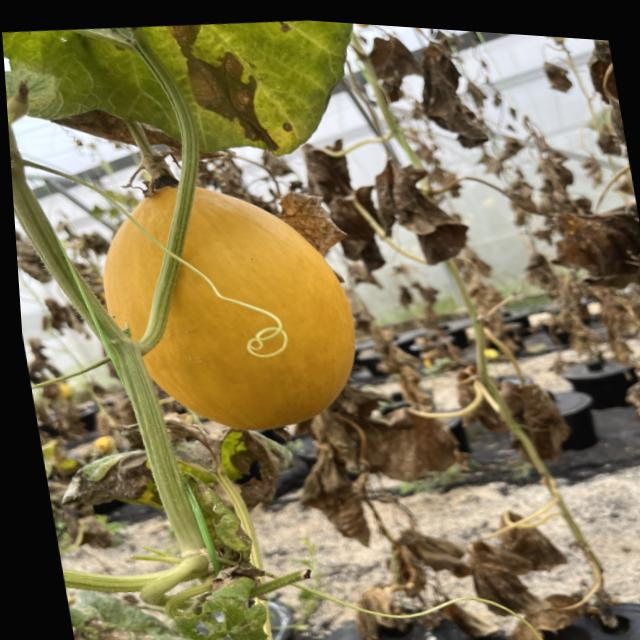bacterial wilt: (0, 0, 383, 205), (62, 437, 162, 519), (278, 182, 349, 251)
